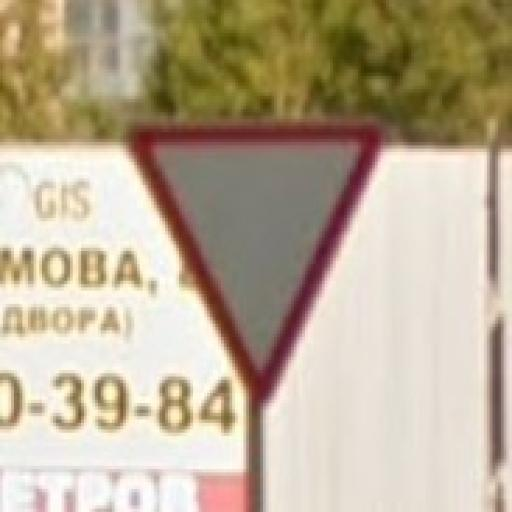traffic_sign: (122, 120, 385, 401)
